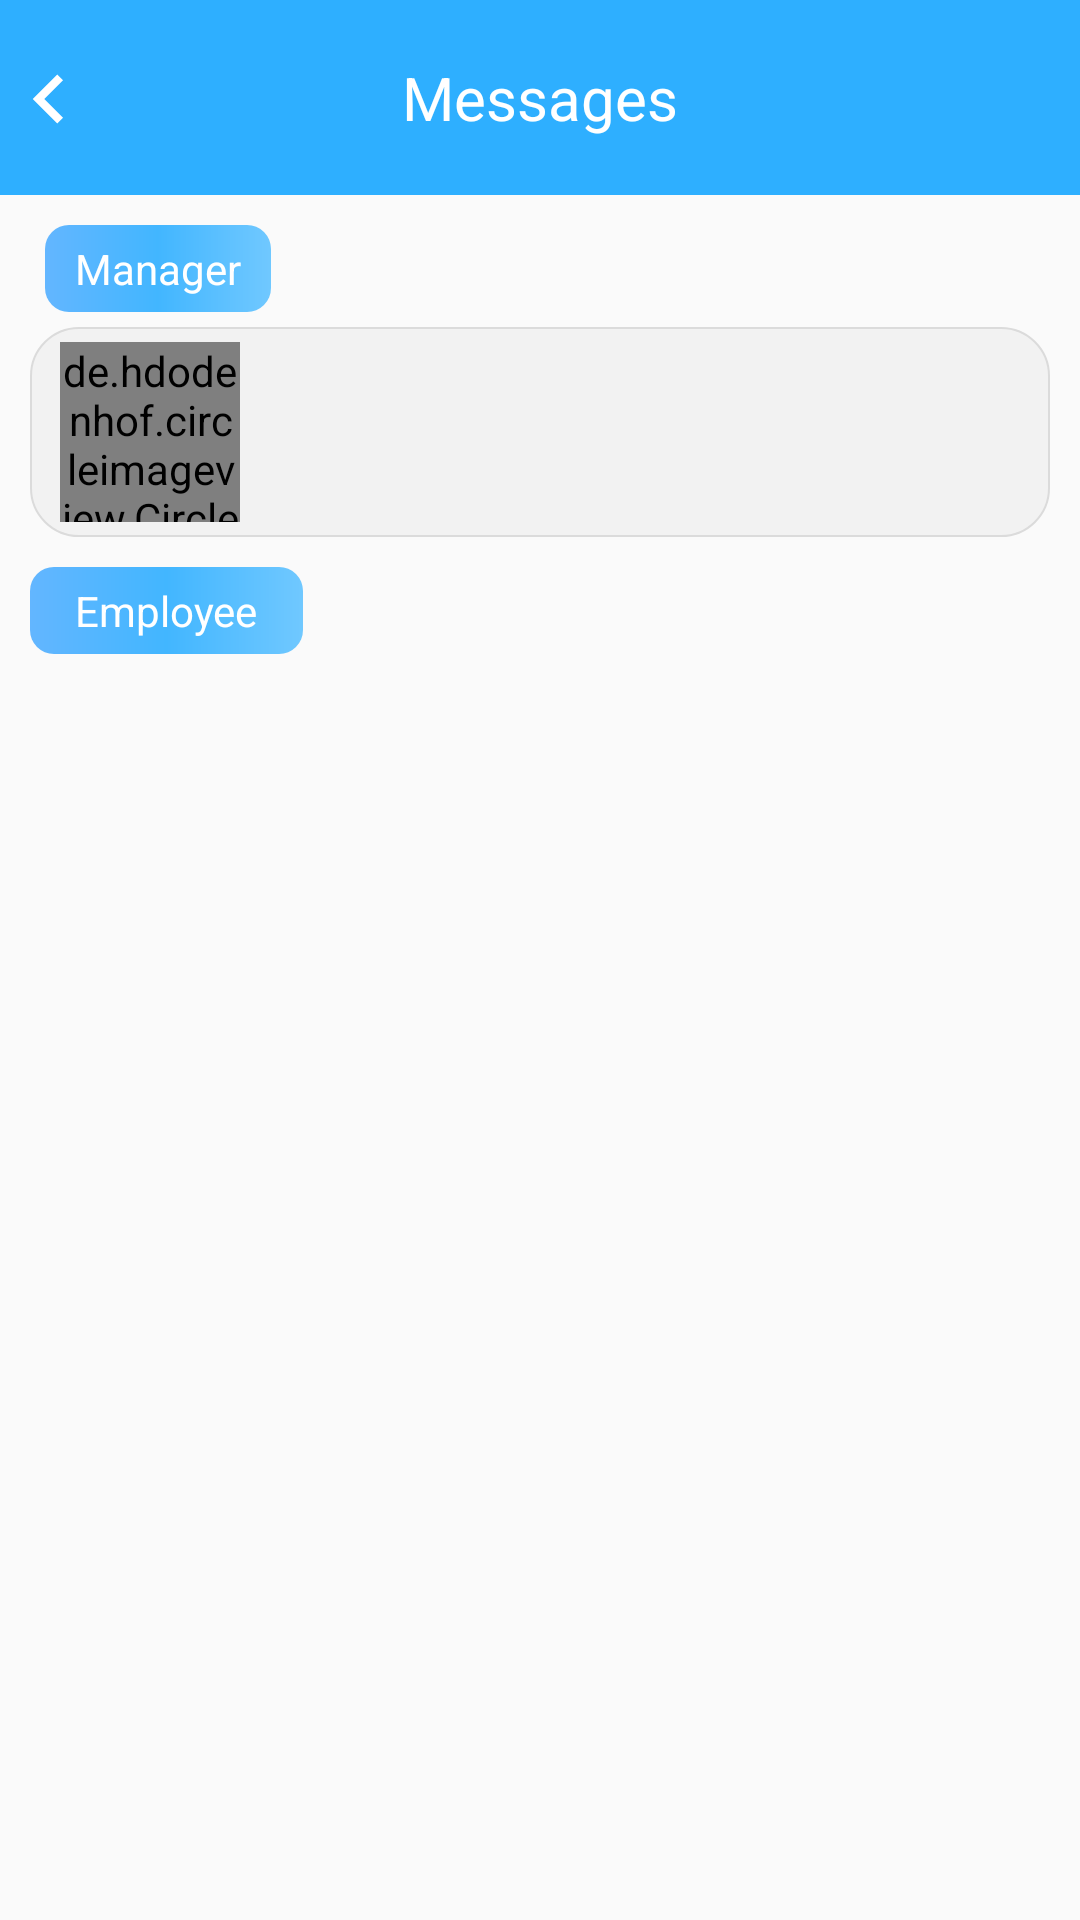

Icon click points for this 1080x1920 phone screenshot, format (x=x, y=y):
keyboard arrow left: (x=48, y=99)
